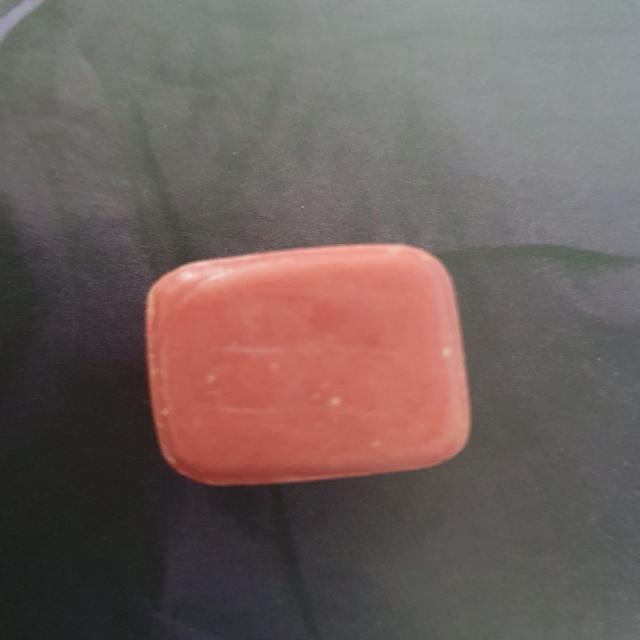pill: (119, 239, 476, 492)
